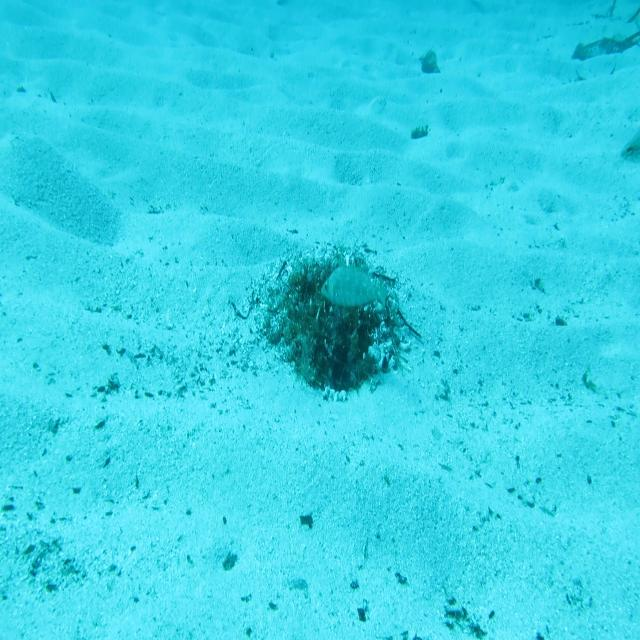INSF: (318, 256, 390, 315)
core_nest: (310, 272, 358, 308)
female: (620, 128, 640, 165)
nest: (260, 237, 416, 411)
vegetation: (571, 1, 640, 71), (417, 44, 442, 76), (407, 120, 432, 140)
